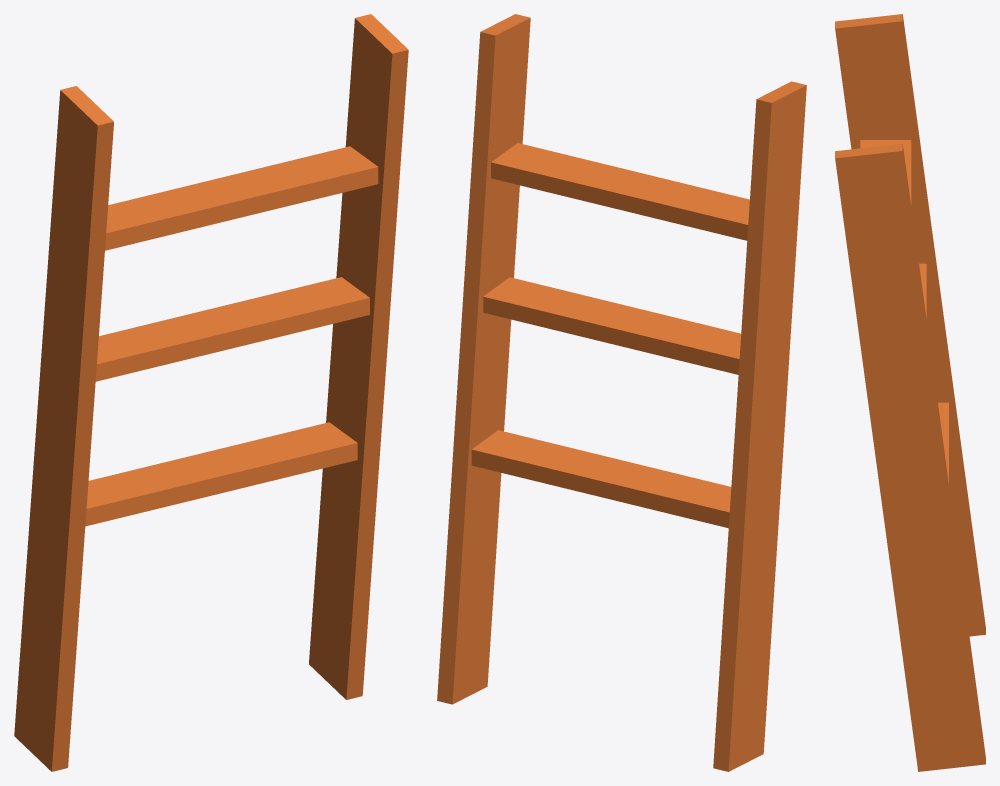
File: Estante_Bano.fbx
3 renders of one model, left to right at view 1: azimuth 30°, elevation 25°; view 2: azimuth 150°, elevation 25°; view 3: azimuth 270°, elevation 25°, orthographic. The views are drawn at different scales.
Parts seen in each view (by area): view 1: Estante_Baño; view 2: Estante_Baño; view 3: Estante_Baño.
Boxes of the visible parts, bbox=[...] form: Estante_Baño: bbox=[14, 14, 408, 771]; Estante_Baño: bbox=[437, 14, 806, 771]; Estante_Baño: bbox=[835, 14, 985, 771].
Bounding box in the file's own units: 95 × 201 × 44.22.
